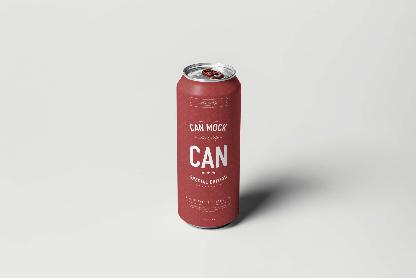Can: (176, 63, 241, 229)
